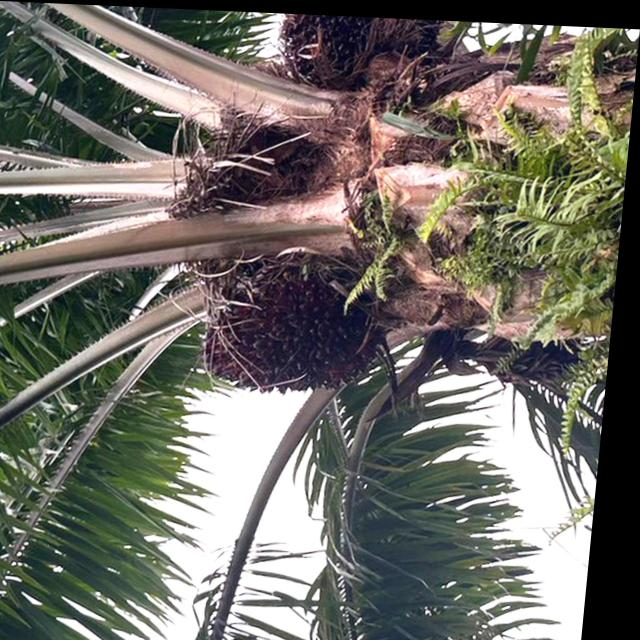ripe: (183, 232, 407, 410)
